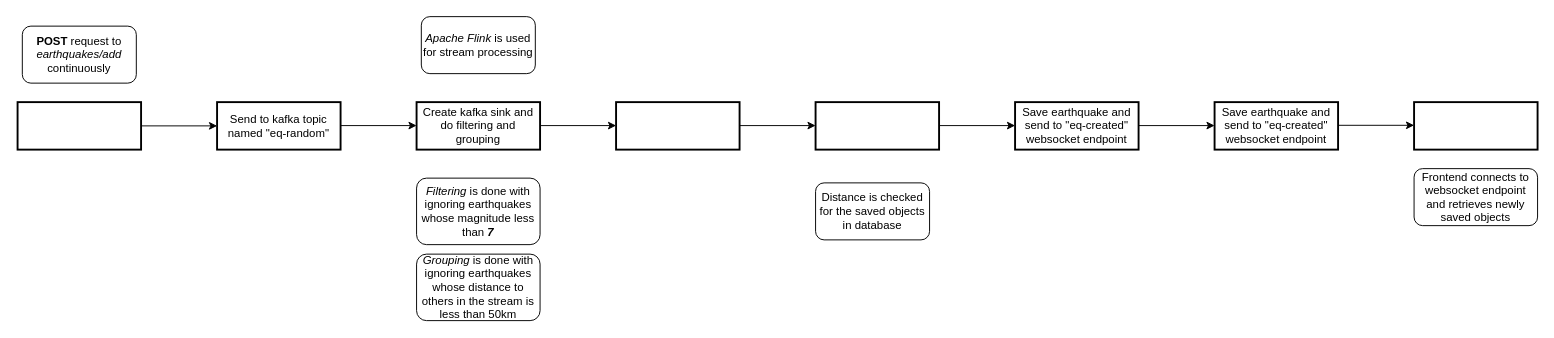
This 1554x338 diagram has some shape labels left out. Each missing label, with the box of its shape:
Connect to websocket and add incoming messages to map: (1413, 101, 1538, 150)
Create kafka subscriber and check against database: (814, 101, 940, 150)
Incoming data from stream: (16, 101, 142, 150)
Send back to kafka topic named "eq-clustered": (615, 101, 740, 150)
